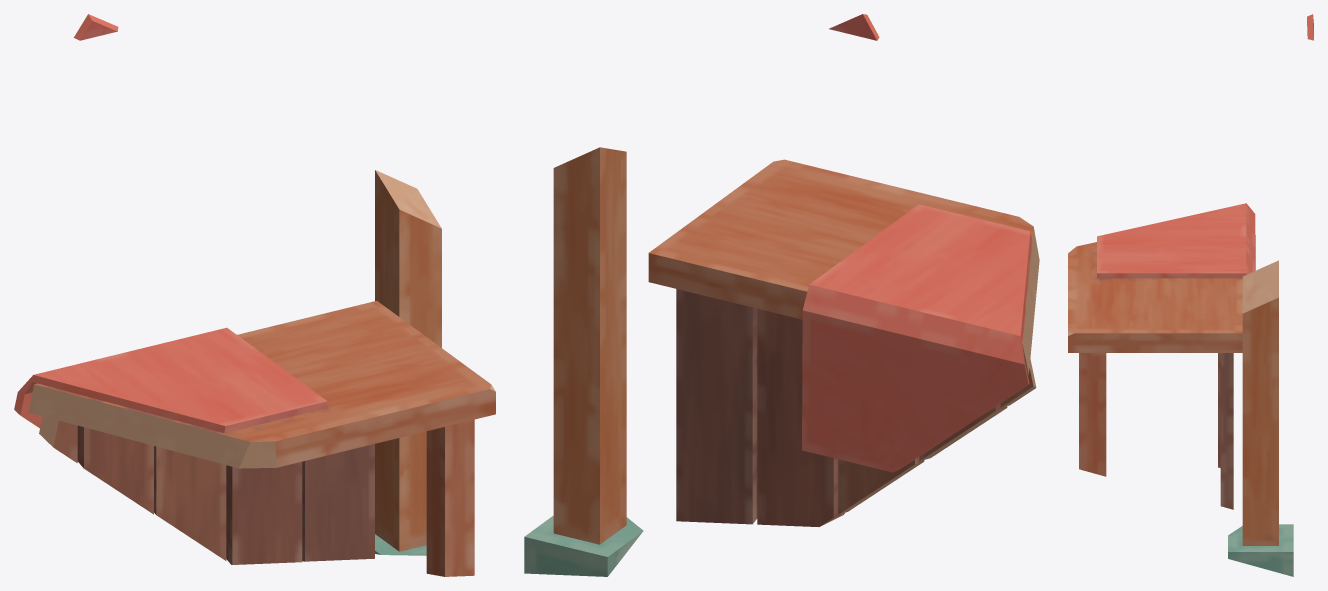
The model's file is stall_s07.fbx.
3 renders of one model, left to right at view 1: azimuth 30°, elevation 25°; view 2: azimuth 150°, elevation 25°; view 3: azimuth 270°, elevation 25°, orthographic. The views are drawn at different scales.
Parts seen in each view (by area): view 1: stall_s07; view 2: stall_s07; view 3: stall_s07.
Part boxes in pixels (x1,y1,x2,y2): stall_s07: (14,14,495,576); stall_s07: (524,14,1039,576); stall_s07: (1068,14,1313,576).
Size of the model in its own units: 4.11 by 5.41 by 2.7.
